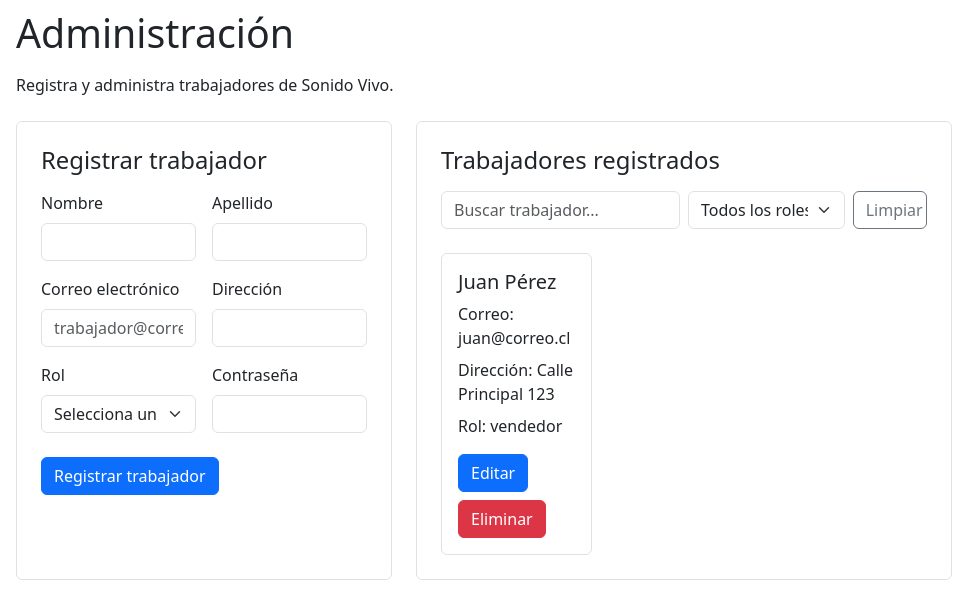
Scenario: Admin › no permite registrar trabajadores con correos repetidos
# Completa el formulario con un correo repetido
Type "Pedro" into the field named "nombre" below "Nombre" at (118, 242), box [41,223,196,261]
Type "González" into the field named "apellido" below "Apellido" at (290, 242), box [212,223,367,261]
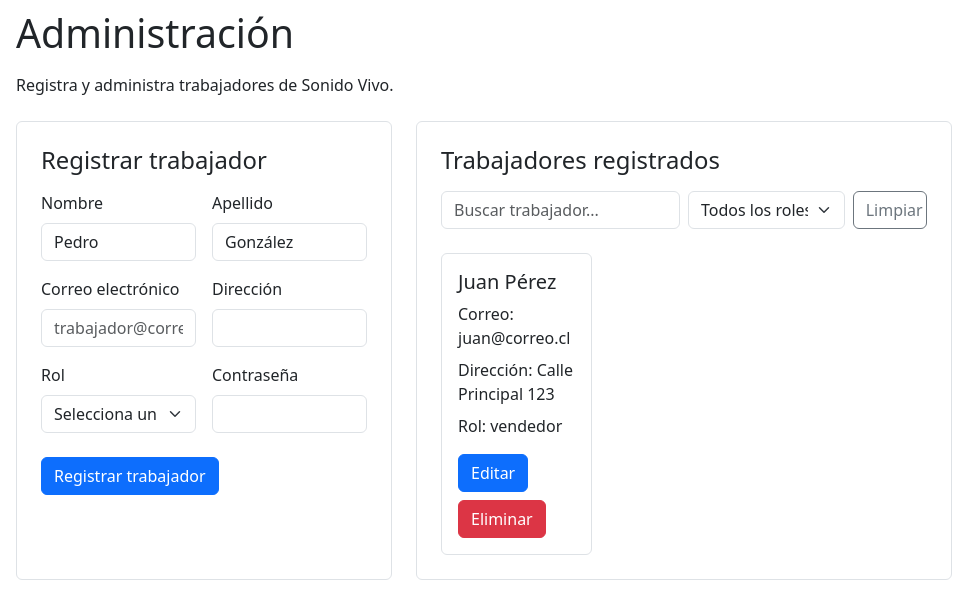
Type "juan@correo.cl" into the field named "correo" at (118, 328), box [41,309,196,347]
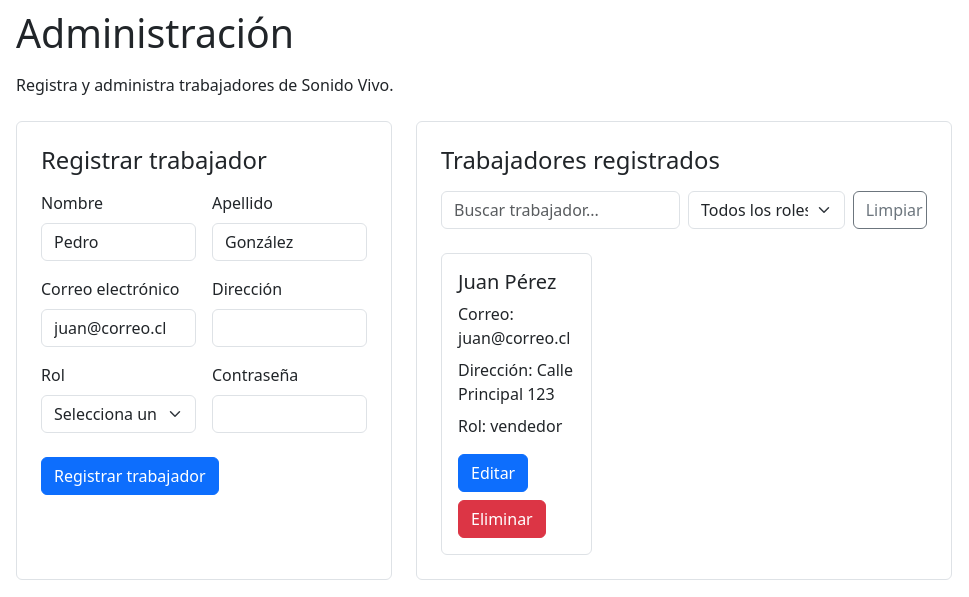
Type "Calle Nueva 456" into the 4th field named "direccion" at (290, 328), box [212,309,367,347]
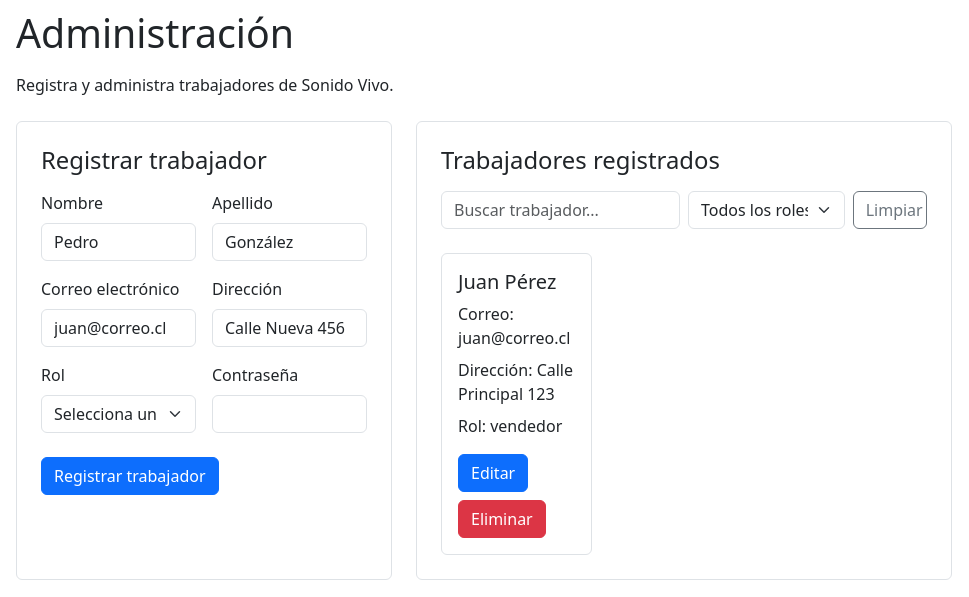
Select "Administrador" in the dropdown named "rol" below "Contraseña" at (118, 414), box [41,395,196,433]
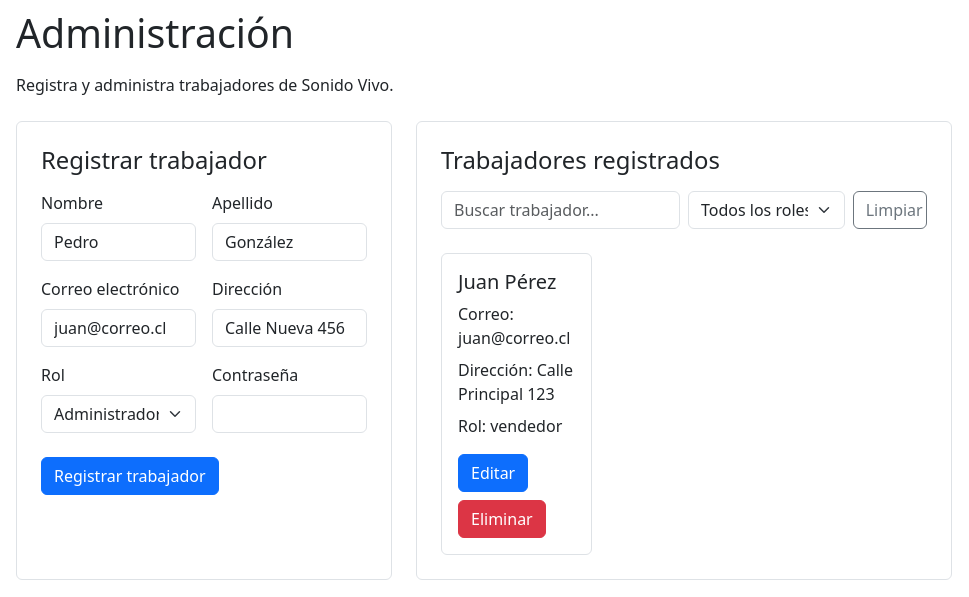
Type "12345678" into the password field named "contrasena" at (290, 414), box [212,395,367,433]
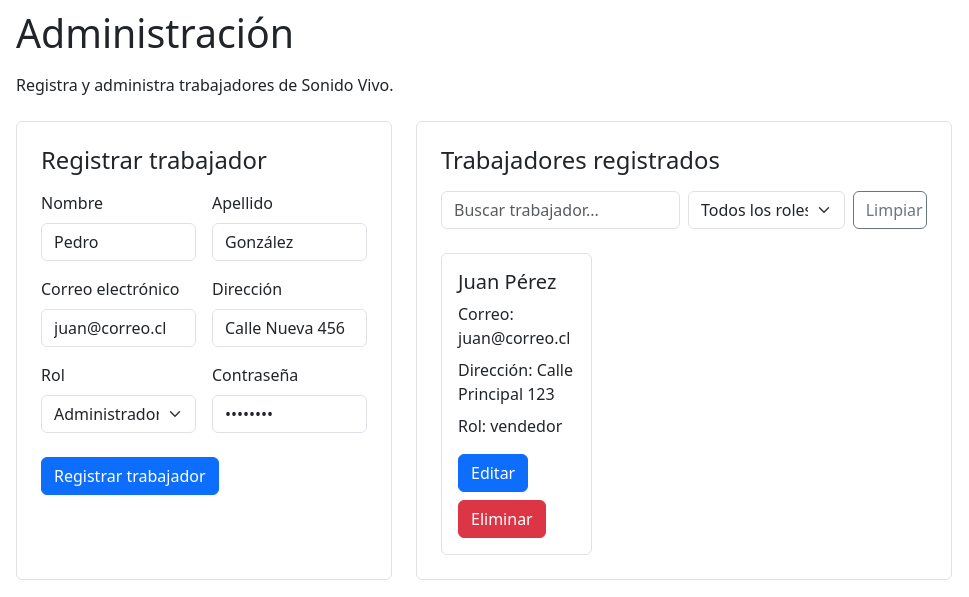
# Intenta registrar al nuevo trabajador
Click the button "Registrar trabajador" at (130, 476), box [41,457,218,495]
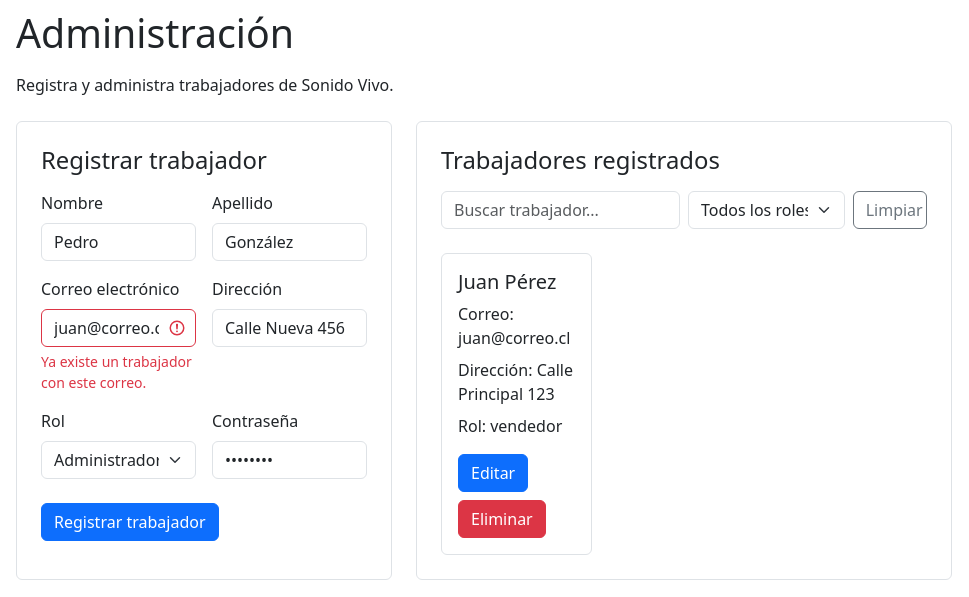
Expected: the text "Ya existe un trabajador con este correo." is shown, [41,351,196,393]
